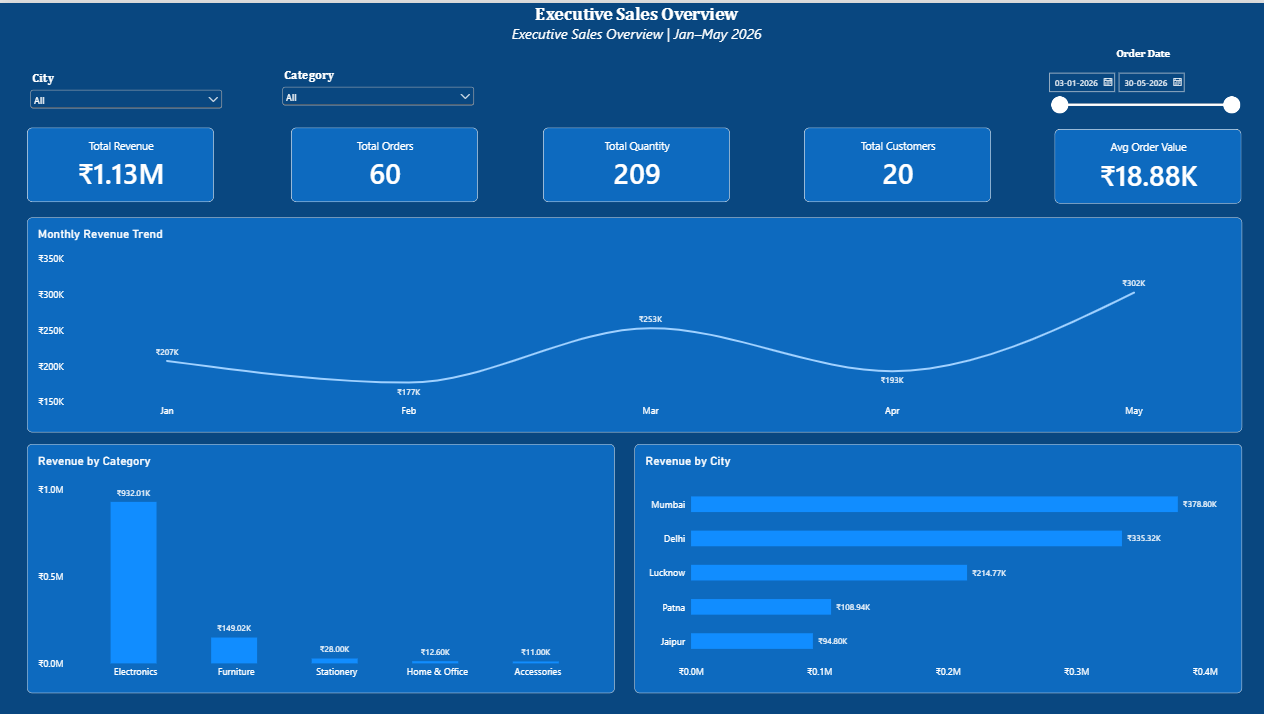

This screenshot's page, from the dashboard's own definition file:
{"tool":"powerbi","page":{"name":"Executive Overview","canvas":[1920,1080],"ordinal":0},"visuals":[{"type":"textbox","box":[10,0,1910,66.7],"z":0},{"type":"cardVisual","fields":{"Data":["sales.Total Revenue"]},"box":[40,187.5,283.3,113.3],"z":1000},{"type":"cardVisual","fields":{"Data":["sales.Total Orders"]},"box":[440,187.5,283.3,113.3],"z":2000},{"type":"cardVisual","fields":{"Data":["sales.Total Quantity"]},"box":[822.5,187.5,283.3,113.3],"z":3000},{"type":"cardVisual","fields":{"Data":["sales.Total Customers"]},"box":[1217.5,187.5,283.3,113.3],"z":4000},{"type":"cardVisual","fields":{"Data":["sales.Avg Order Value"]},"box":[1597.5,190,283.3,113.3],"z":5000},{"type":"lineChart","title":"Monthly Revenue Trend","fields":{"Category":["DateTable.Month Name"],"Y":["sales.Total Revenue"]},"box":[40,325,1840,325],"z":6000},{"type":"clusteredColumnChart","title":"Revenue by Category","fields":{"Category":["products.category"],"Y":["sales.Total Revenue"]},"box":[40,667.5,890,377.5],"z":7000},{"type":"clusteredBarChart","title":"Revenue by City","fields":{"Category":["customers.city"],"Y":["sales.Total Revenue"]},"box":[960,667.5,920,377.5],"z":8000},{"type":"slicer","title":"Order Date","fields":{"Values":["sales.order_date"]},"box":[1579.8,66.3,300,105.8],"z":9000},{"type":"slicer","fields":{"Values":["customers.city"]},"box":[40,102.5,300,70],"z":10000},{"type":"slicer","fields":{"Values":["products.category"]},"box":[422.5,97.5,300,75],"z":11000}]}

Visuals, with their boxes in screenshot pixels (x1, y1, x2, y2), scaled from the page's 1920x1080 canvas onto the 1264x714 screenshot:
textbox: Rect(7, 0, 1263, 44)
cardVisual - sales.Total Revenue: Rect(26, 124, 213, 199)
cardVisual - sales.Total Orders: Rect(290, 124, 476, 199)
cardVisual - sales.Total Quantity: Rect(541, 124, 728, 199)
cardVisual - sales.Total Customers: Rect(802, 124, 988, 199)
cardVisual - sales.Avg Order Value: Rect(1052, 126, 1238, 201)
"Monthly Revenue Trend" lineChart: Rect(26, 215, 1238, 430)
"Revenue by Category" clusteredColumnChart: Rect(26, 441, 612, 691)
"Revenue by City" clusteredBarChart: Rect(632, 441, 1238, 691)
"Order Date" slicer: Rect(1040, 44, 1238, 114)
slicer - customers.city: Rect(26, 68, 224, 114)
slicer - products.category: Rect(278, 64, 476, 114)
